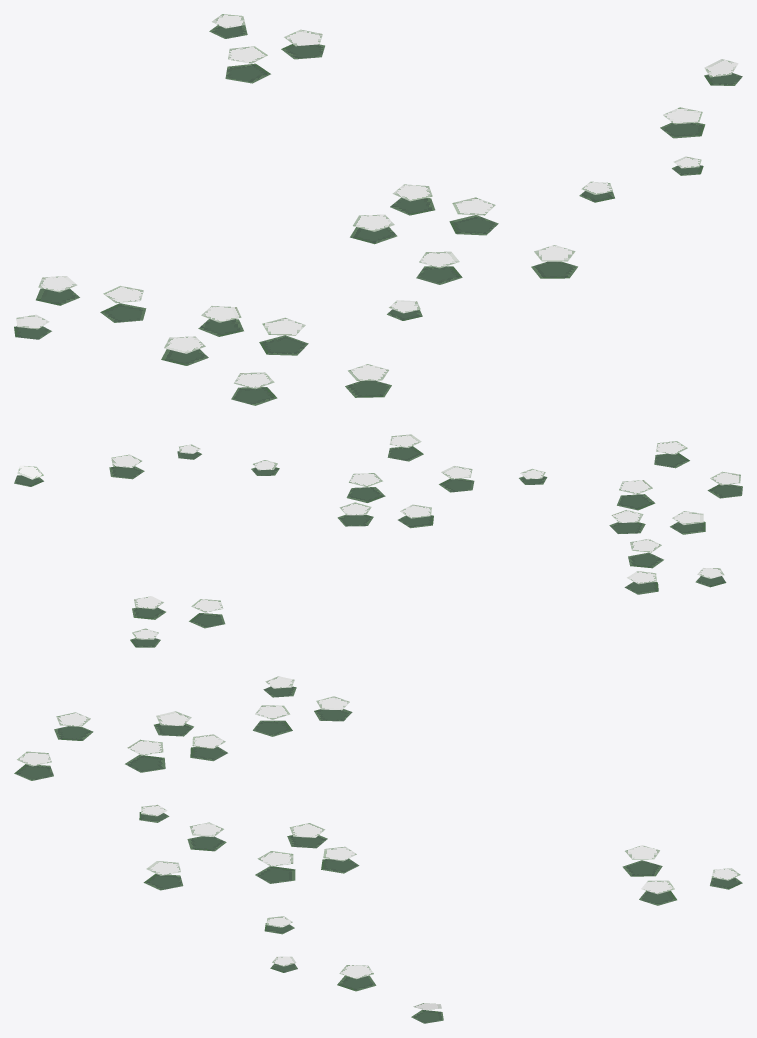
Rendered from whiteflowers.glb.
3 views of the same model, one above another, from view 1: azimuth 30°, elevation 25°; view 2: azimuth 150°, elevation 25°; view 3: azimuth 270°, elevation 25° (orthographic). The views are drawn at different scales.
Parts seen in each view (by area): view 1: Props.266; view 2: Props.266; view 3: Props.266.
Part boxes in pixels (bbox=[...]): Props.266: bbox=[14, 14, 742, 405]; Props.266: bbox=[14, 434, 742, 647]; Props.266: bbox=[14, 676, 742, 1023].
Size of the model in its own units: 1.54 by 0.0341 by 1.39.
Materials: 1 (1 with a texture image).
